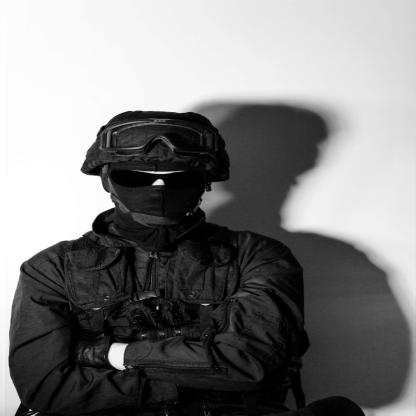Helmet: (80, 110, 230, 216)
